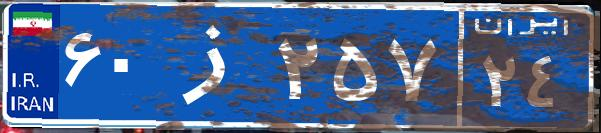0: (110, 28, 158, 105)
2: (273, 28, 330, 110), (475, 38, 525, 113)
4: (525, 38, 570, 115)
5: (330, 28, 385, 110)
6: (57, 26, 110, 107)
7: (385, 28, 445, 110)
ز: (158, 15, 273, 115)
